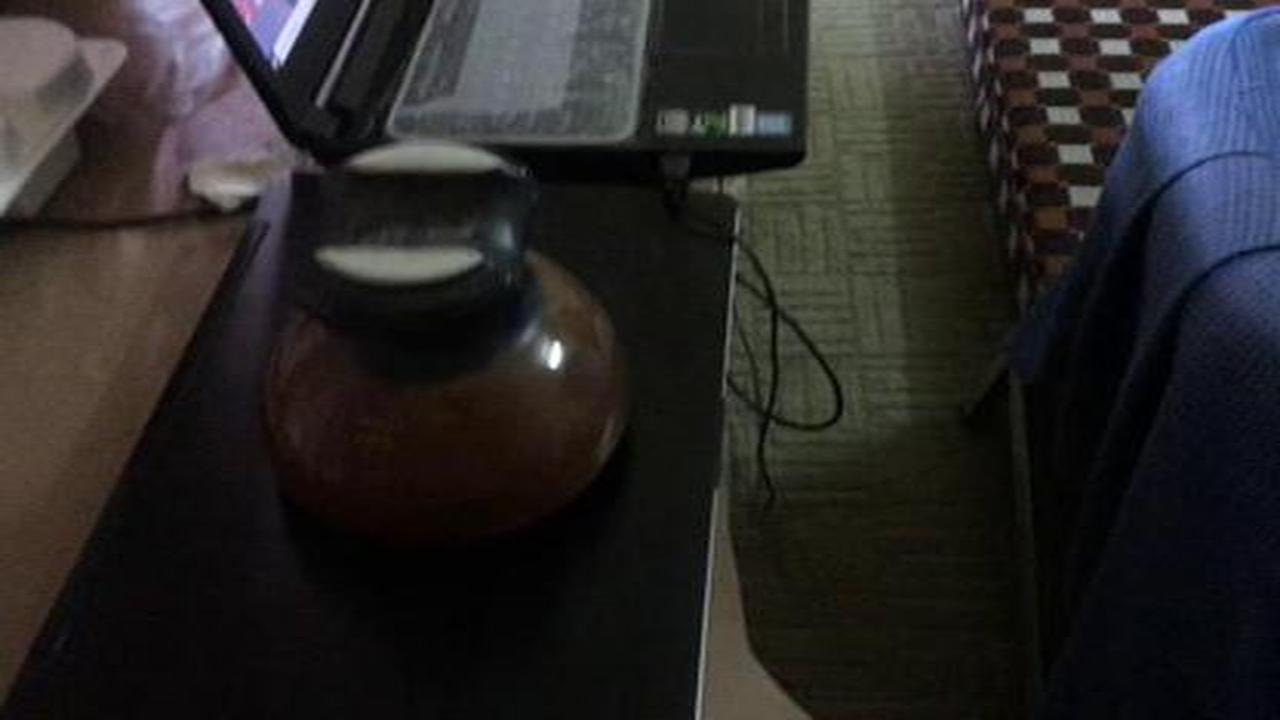insulator_pin: (241, 129, 659, 573)
